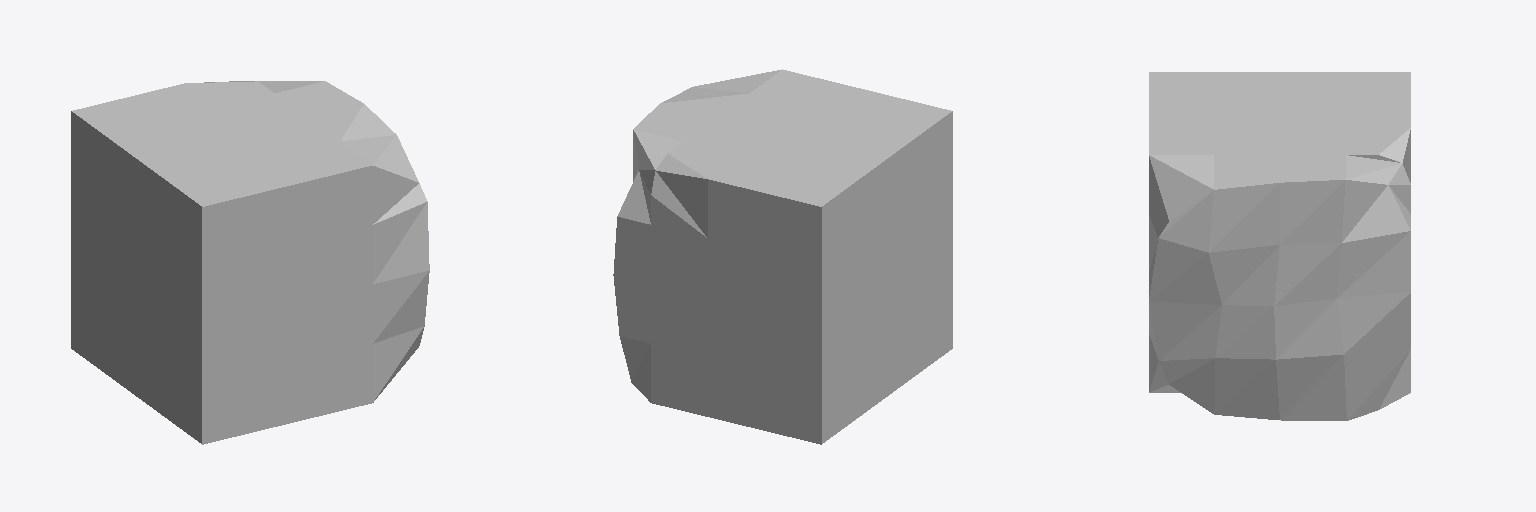
The model's file is shrine_top.obj.
The picture shows the model from 3 angles: view 1: azimuth 30°, elevation 25°; view 2: azimuth 150°, elevation 25°; view 3: azimuth 270°, elevation 25°; orthographic projection.
Visible parts, largest first — view 1: Object.1; view 2: Object.1; view 3: Object.1.
Part boxes in pixels (x1,y1,x2,y2): Object.1: (71, 81, 429, 444); Object.1: (613, 69, 952, 444); Object.1: (1149, 72, 1410, 420).
Size of the model in its own units: 2.1 by 2.12 by 2.